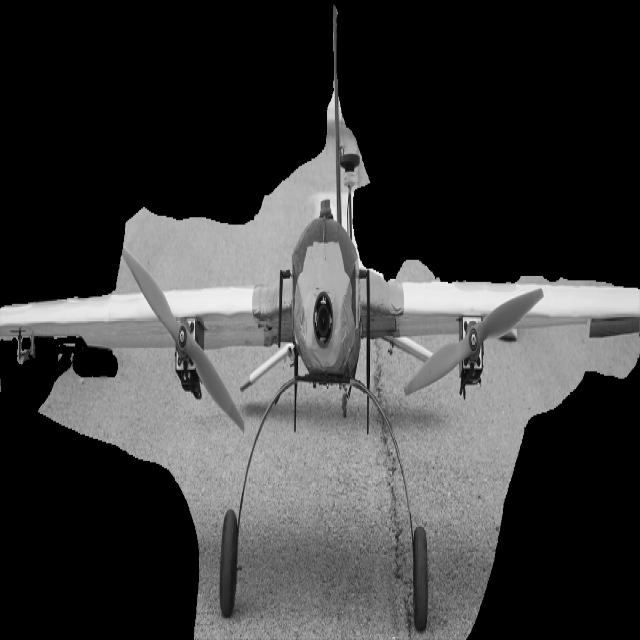iha: (0, 4, 639, 630)
